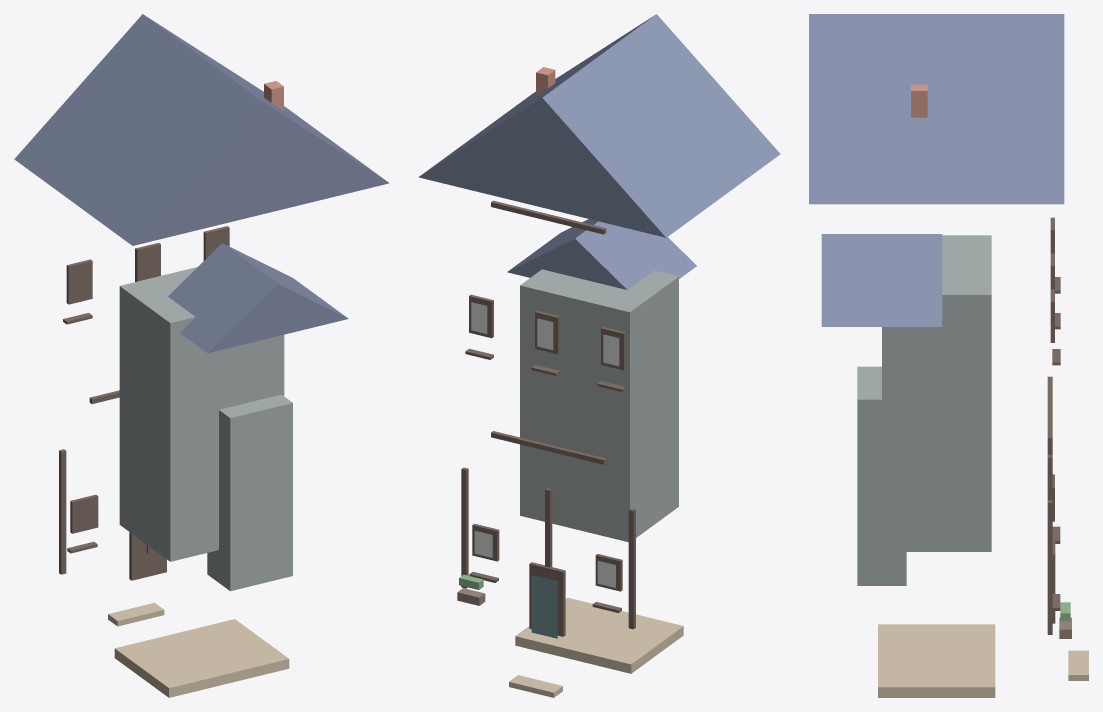
The model's file is moonhill-star-archive-01.glb.
The picture shows the model from 3 angles, left to right: view 1: azimuth 30°, elevation 25°; view 2: azimuth 150°, elevation 25°; view 3: azimuth 270°, elevation 25°; orthographic projection. The views are drawn at different scales.
Visible parts, largest first — view 1: roof, body, wing, wing_roof, plinth, door_frame, uwf_1_-0.66, up_-0.84, wf_-0.62, uwf_1_0.00, step, uwf_1_0.66; view 2: roof, body, wing_roof, plinth, door, door_frame, up_-0.84, beam_2, beam_1, up_0.84, step, up_0.00 (+3 smaller); view 3: roof, body, wing_roof, plinth, wing, up_0.84, step, chimney.
Boxes of the visible parts, <box> form: roof: <box>14,14,389,245</box>; body: <box>119,267,284,561</box>; wing: <box>207,394,292,591</box>; wing_roof: <box>168,243,348,353</box>; plinth: <box>114,619,289,697</box>; door_frame: <box>129,532,166,580</box>; uwf_1_-0.66: <box>66,259,92,304</box>; up_-0.84: <box>59,449,66,574</box>; wf_-0.62: <box>70,494,98,533</box>; uwf_1_0.00: <box>135,242,160,281</box>; step: <box>108,603,164,626</box>; uwf_1_0.66: <box>203,226,229,260</box>; roof: <box>419,14,780,237</box>; body: <box>520,269,678,542</box>; wing_roof: <box>507,219,696,289</box>; plinth: <box>515,598,683,673</box>; door: <box>531,575,557,638</box>; door_frame: <box>529,562,565,636</box>; up_-0.84: <box>628,508,635,629</box>; beam_2: <box>491,200,606,234</box>; beam_1: <box>491,431,606,464</box>; up_0.84: <box>461,467,468,588</box>; step: <box>509,675,562,697</box>; up_0.00: <box>545,488,552,567</box>; roof: <box>809,14,1064,204</box>; body: <box>882,235,991,551</box>; wing_roof: <box>821,234,942,326</box>; plinth: <box>878,624,995,697</box>; wing: <box>857,366,906,585</box>; up_0.84: <box>1047,500,1052,634</box>; step: <box>1068,650,1088,680</box>; chimney: <box>911,84,927,117</box>.
Bounding box in the file's own units: 2.48 × 5.61 × 2.17.
